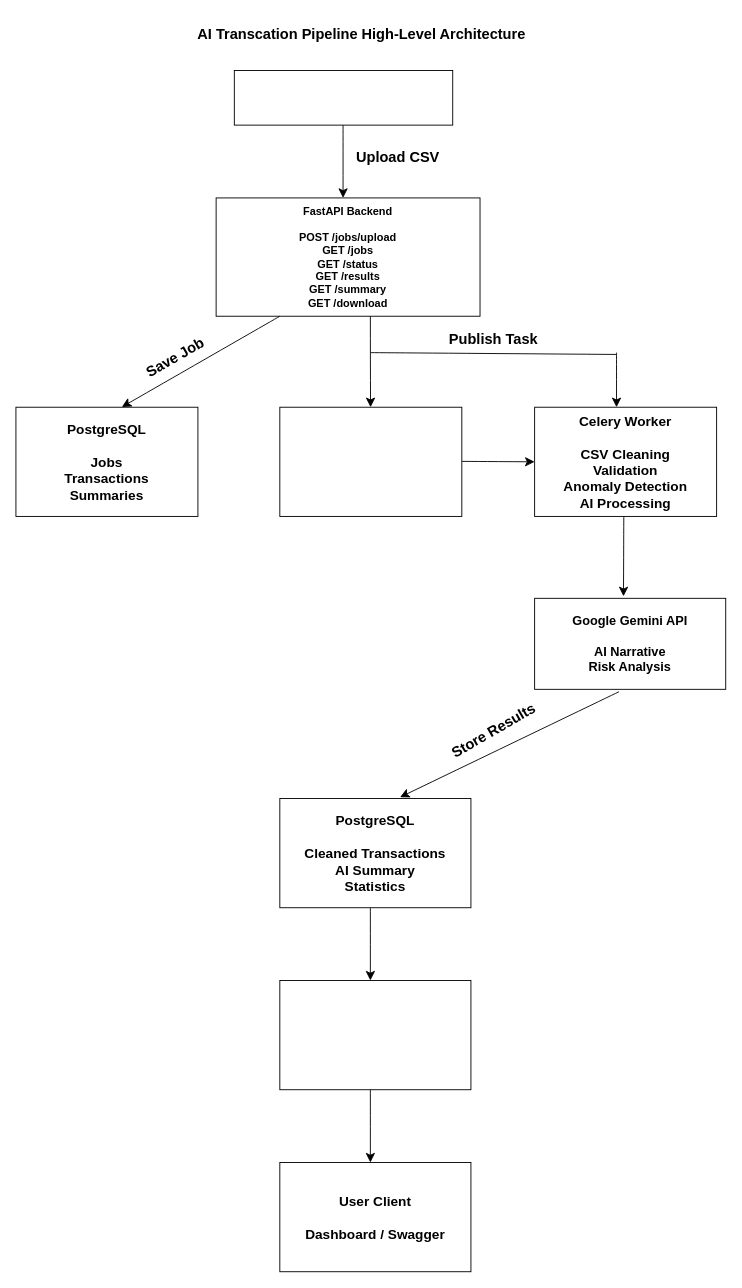
Some shapes in this 742 by 1288 pixel diagram are drawn without their labels. Here are the shapes that lost their labels. From the top down, the centre of each, then its label:
(343,97): User Swagger UI Browser / Postman
(370,461): Redis Message Queue
(375,1035): FastAPI Backend GET Status Get Result Get Summary Download Cleaned CSV
